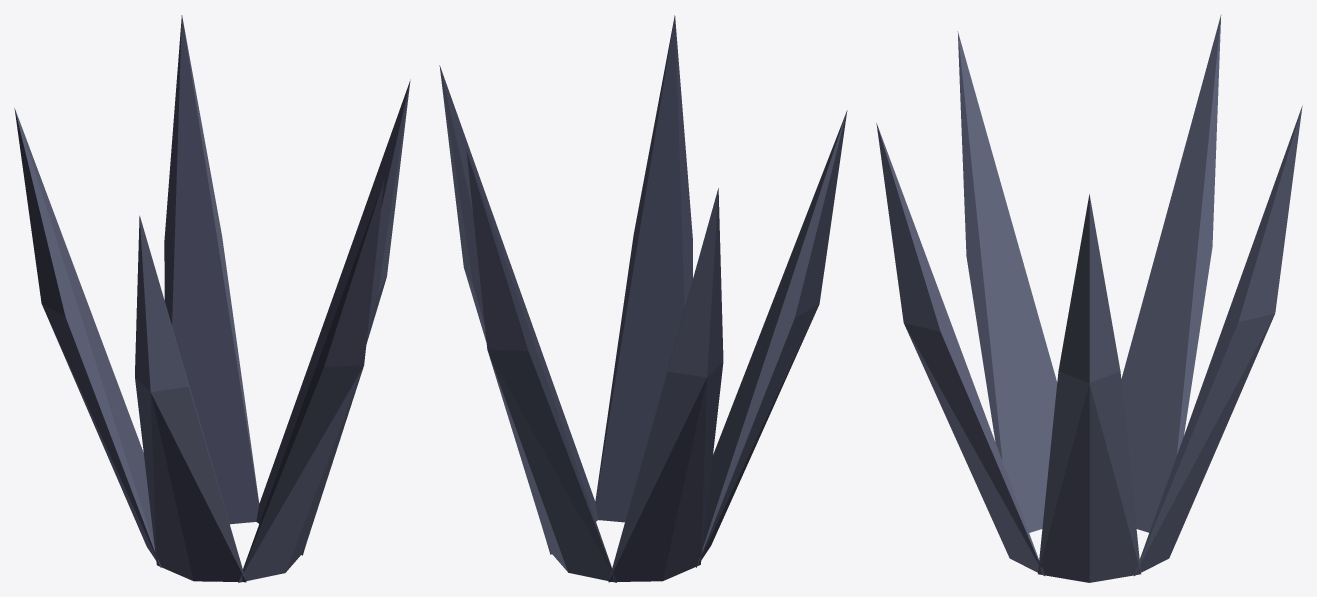
Rendered from TW_VEG_GRASS_TUFT_A_LOD0.glb.
3 renders of one model, left to right at view 1: azimuth 30°, elevation 25°; view 2: azimuth 150°, elevation 25°; view 3: azimuth 270°, elevation 25°, orthographic. The views are drawn at different scales.
Parts seen in each view (by area): view 1: TW_VEG_GRASS_TUFT_A_LOD0; view 2: TW_VEG_GRASS_TUFT_A_LOD0; view 3: TW_VEG_GRASS_TUFT_A_LOD0.
Part boxes in pixels (<box>): TW_VEG_GRASS_TUFT_A_LOD0: <box>14,15,410,582</box>; TW_VEG_GRASS_TUFT_A_LOD0: <box>439,15,847,582</box>; TW_VEG_GRASS_TUFT_A_LOD0: <box>876,14,1302,582</box>.
Size of the model in its own units: 0.3528 by 0.4532 by 0.3709.
Materials: 1 (1 with a texture image).
